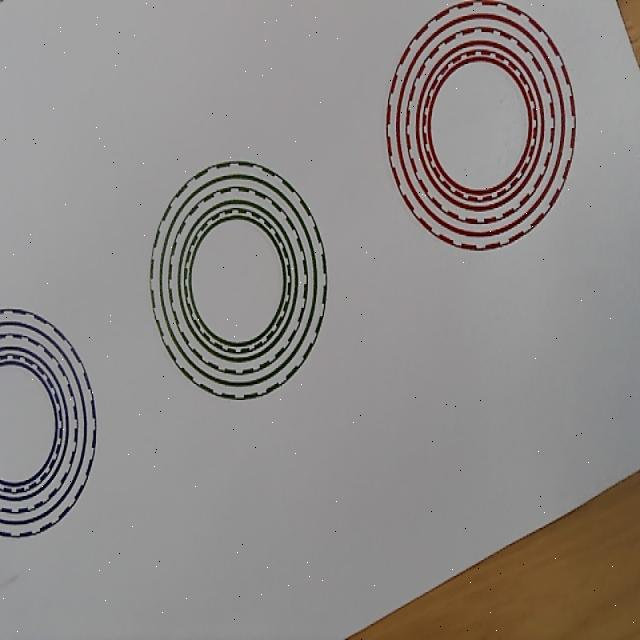g: (149, 162, 327, 399)
